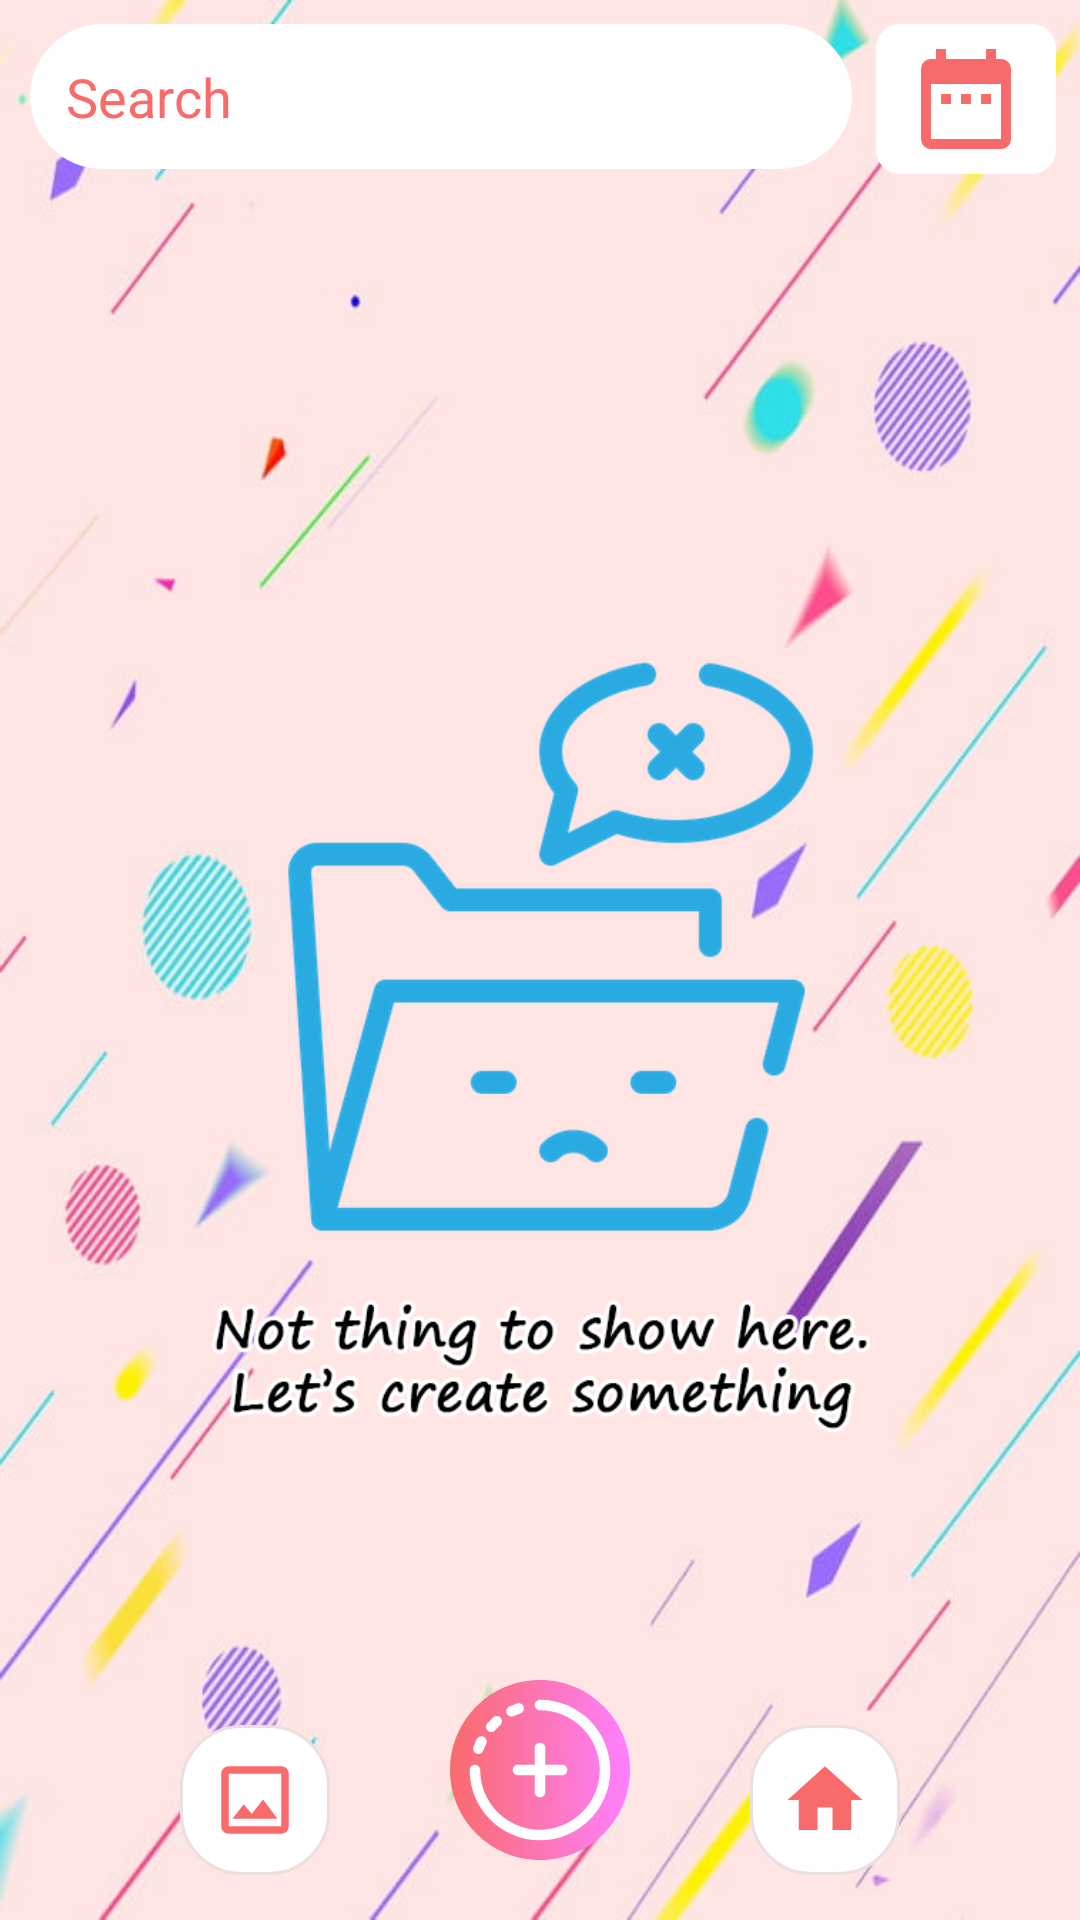

Screen size 1080px x 1920px. Icon name, then its center in pixels as (x=x, y=y):
btadd: (x=540, y=1770)
date range: (x=966, y=99)
home: (x=825, y=1800)
